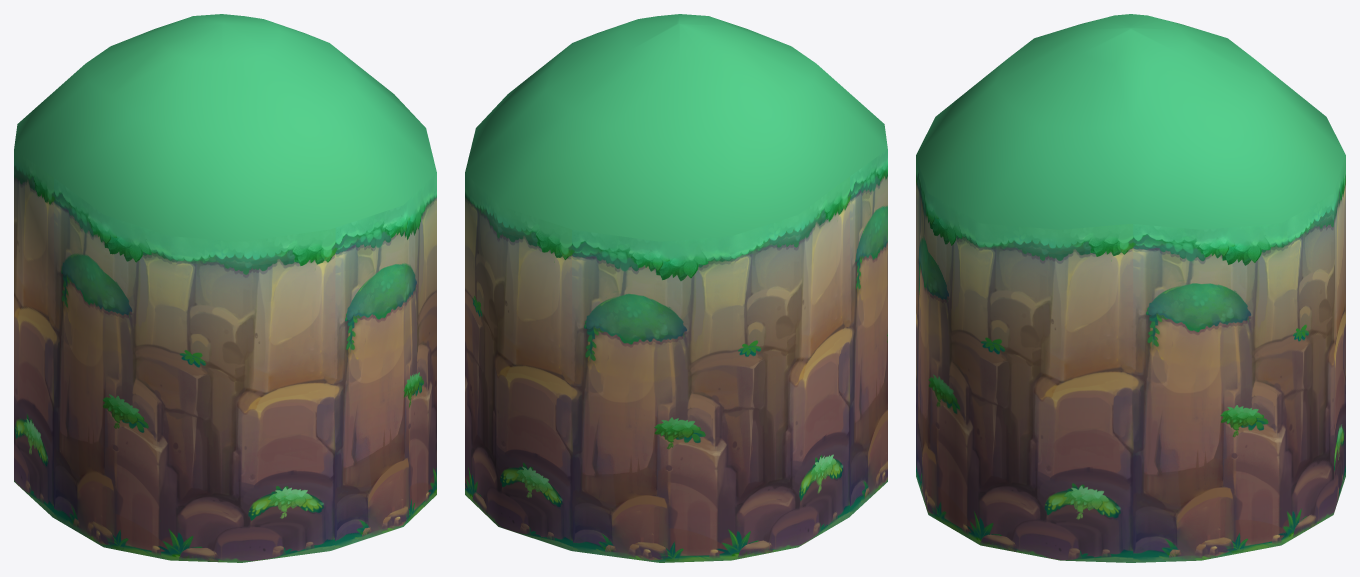
File: CBS_Ground_rock_S.FBX
3 views of the same model, side by side, from view 1: azimuth 30°, elevation 25°; view 2: azimuth 150°, elevation 25°; view 3: azimuth 270°, elevation 25° (orthographic).
Parts seen in each view (by area): view 1: CBS_Ground_rock_S; view 2: CBS_Ground_rock_S; view 3: CBS_Ground_rock_S.
Part boxes in pixels (box(x1,y1,x2,y2)): CBS_Ground_rock_S: box(14, 14, 436, 562); CBS_Ground_rock_S: box(465, 14, 887, 562); CBS_Ground_rock_S: box(916, 14, 1345, 562).
Bounding box in the file's own units: 376 × 476 × 410.
